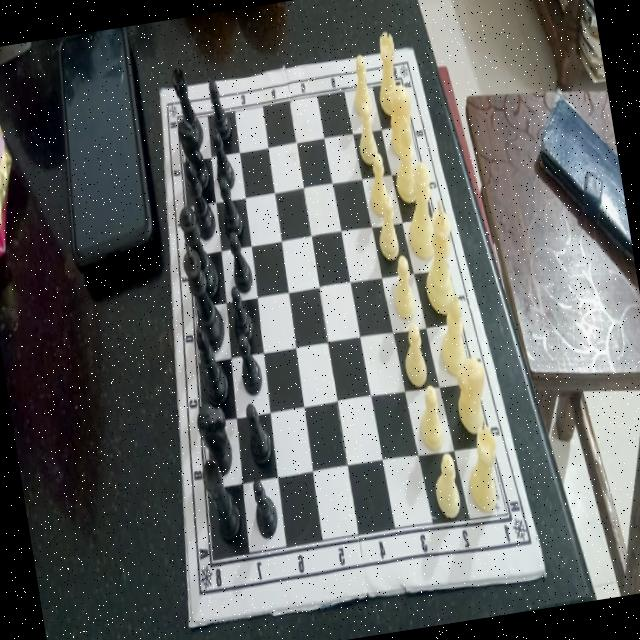corners: (537, 554, 555, 584), (183, 607, 200, 637), (404, 34, 421, 62), (151, 78, 169, 104)
